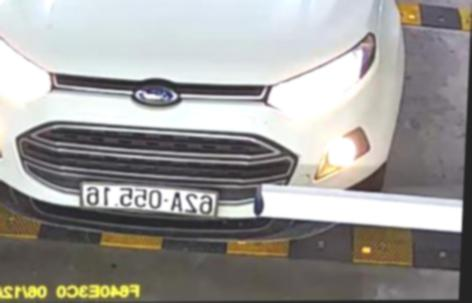License_Plate: (77, 178, 222, 220)
